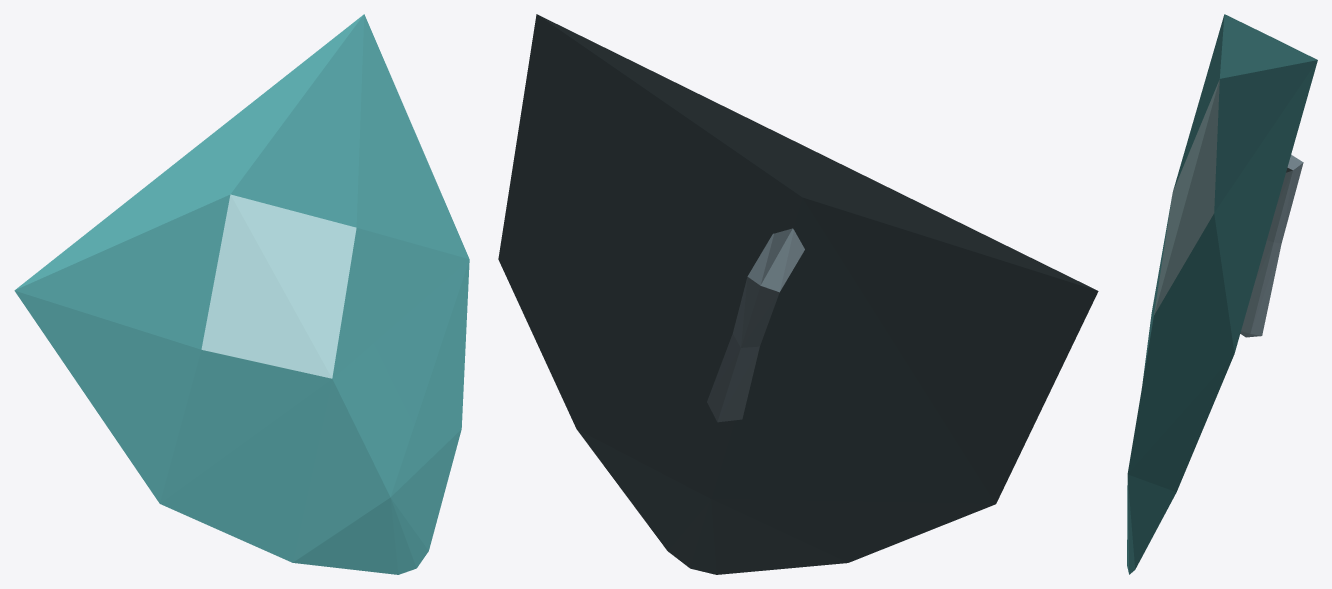
File: CharSkyNPC_Prop_Shield.glb
The picture shows the model from 3 angles, left to right: view 1: azimuth 30°, elevation 25°; view 2: azimuth 150°, elevation 25°; view 3: azimuth 270°, elevation 25°; orthographic projection. The views are drawn at different scales.
Visible parts, largest first — view 1: CharSkyNPC_Prop_Shield; view 2: CharSkyNPC_Prop_Shield; view 3: CharSkyNPC_Prop_Shield.
Boxes of the visible parts, box(x1,y1,x2,y2) form: CharSkyNPC_Prop_Shield: box(14, 14, 469, 574); CharSkyNPC_Prop_Shield: box(498, 14, 1098, 574); CharSkyNPC_Prop_Shield: box(1127, 14, 1317, 574).
Bounding box in the file's own units: 4.79 × 4.82 × 1.56.
1 material, 1 textured.
